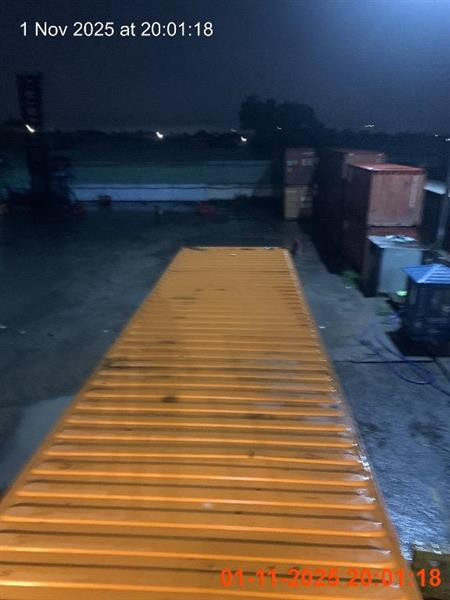bent: (0, 243, 442, 599)
